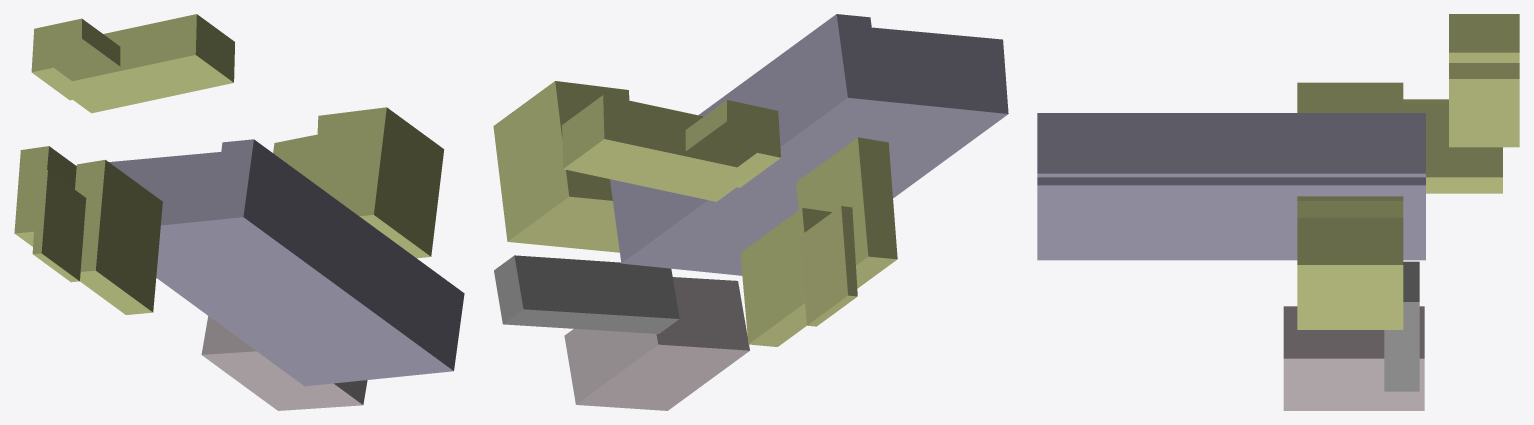
3 views of the same model, side by side, from view 1: azimuth 30°, elevation 25°; view 2: azimuth 150°, elevation 25°; view 3: azimuth 270°, elevation 25° (orthographic). The views are drawn at different scales.
Visible parts, largest first — view 1: 0_1_2_0_3_3_2_0_1_0; view 2: 0_1_2_0_3_3_2_0_1_0; view 3: 0_1_2_0_3_3_2_0_1_0.
Part boxes in pixels (x1,y1,x2,y2): 0_1_2_0_3_3_2_0_1_0: (14, 14, 464, 410); 0_1_2_0_3_3_2_0_1_0: (493, 14, 1008, 410); 0_1_2_0_3_3_2_0_1_0: (1037, 14, 1519, 410).
Bounding box in the file's own units: 29.62 × 28.71 × 40.97.
